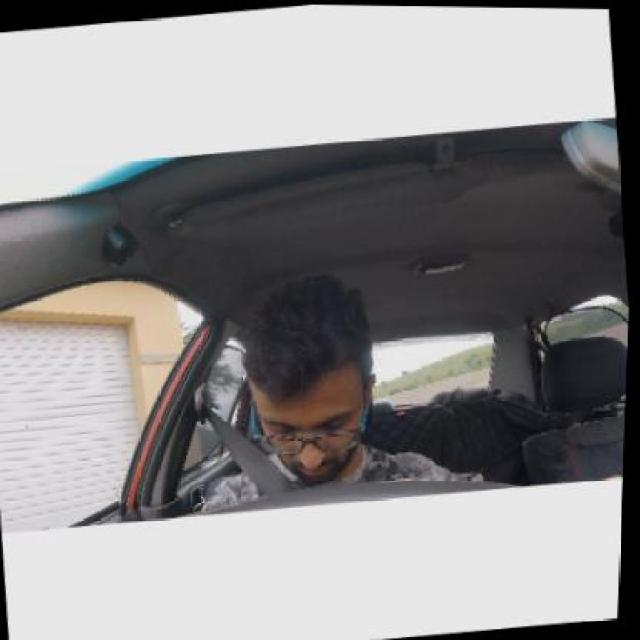drowsy: (217, 280, 403, 487)
